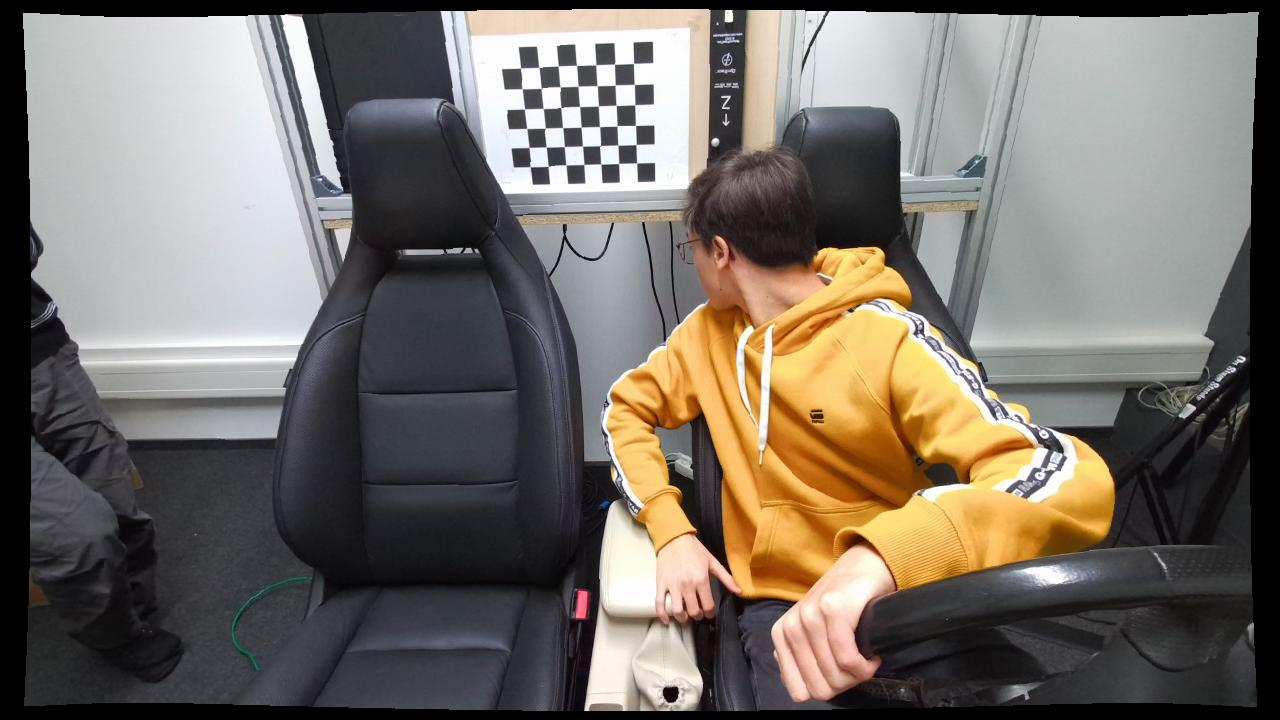Distracted: (606, 142, 1002, 718)
